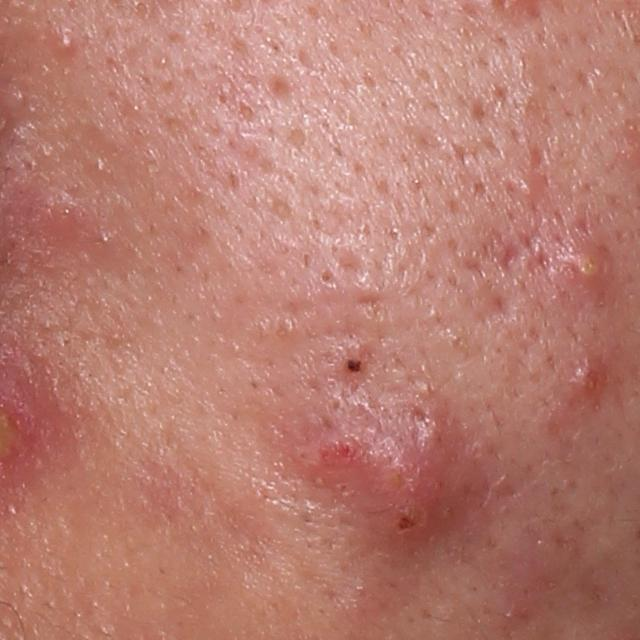atrophic_scar: (475, 204, 598, 281), (470, 281, 523, 324), (264, 75, 301, 107)
comedo: (321, 265, 340, 292)
nodule: (292, 399, 509, 568)
papule: (558, 351, 616, 408), (512, 170, 546, 201), (51, 29, 77, 62)
pustule: (572, 237, 619, 286)
